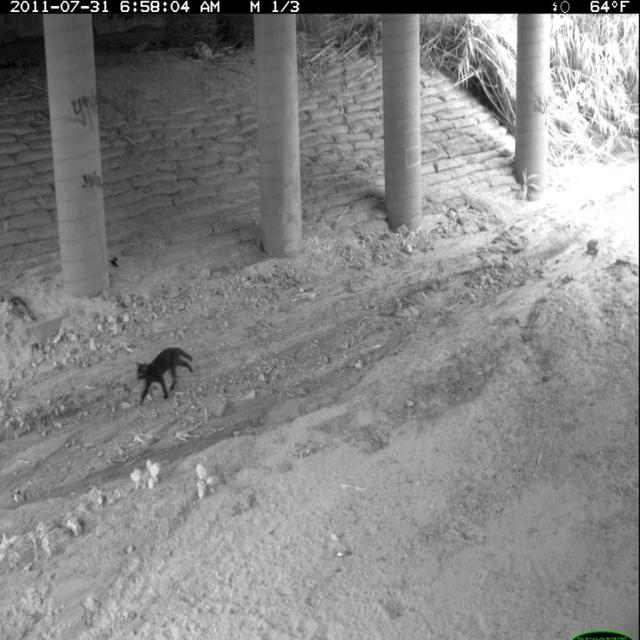cat: (133, 344, 197, 412)
